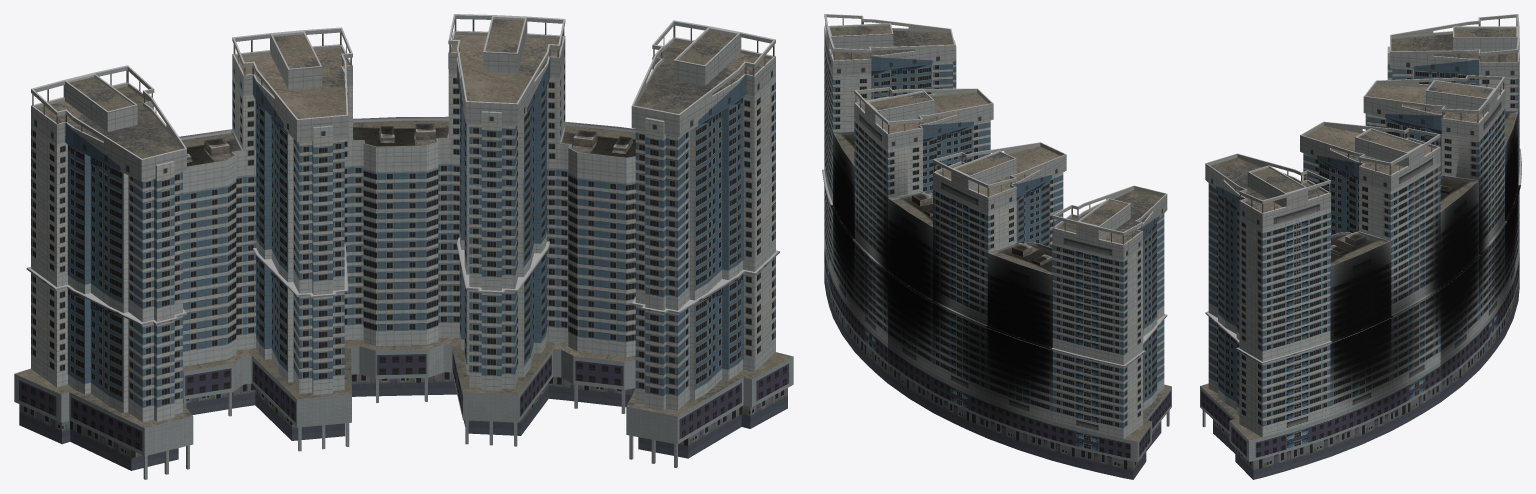
The model's file is Builkd.gltf.
3 renders of one model, left to right at view 1: azimuth 30°, elevation 25°; view 2: azimuth 150°, elevation 25°; view 3: azimuth 270°, elevation 25°, orthographic. The views are drawn at different scales.
Parts seen in each view (by area): view 1: LOD0; view 2: LOD0; view 3: LOD0.
Part boxes in pixels (x1,y1,x2,y2): LOD0: (14, 14, 793, 479); LOD0: (822, 14, 1171, 479); LOD0: (1200, 14, 1521, 479).
Bounding box in the file's own units: 2.01 × 1.17 × 1.23.
Materials: 1 (1 with a texture image).
